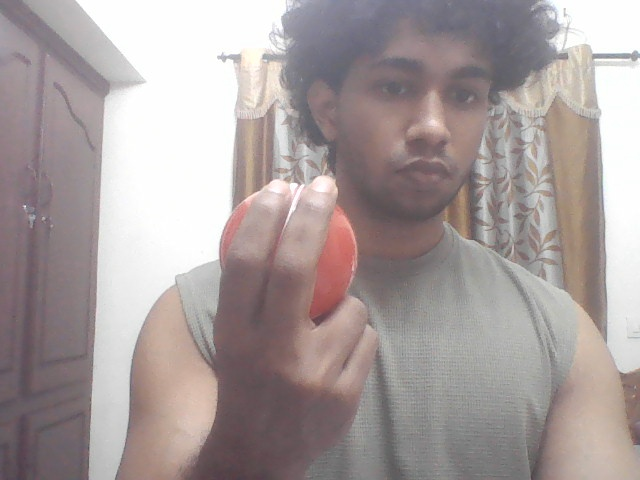cricket_ball: (211, 179, 364, 321)
